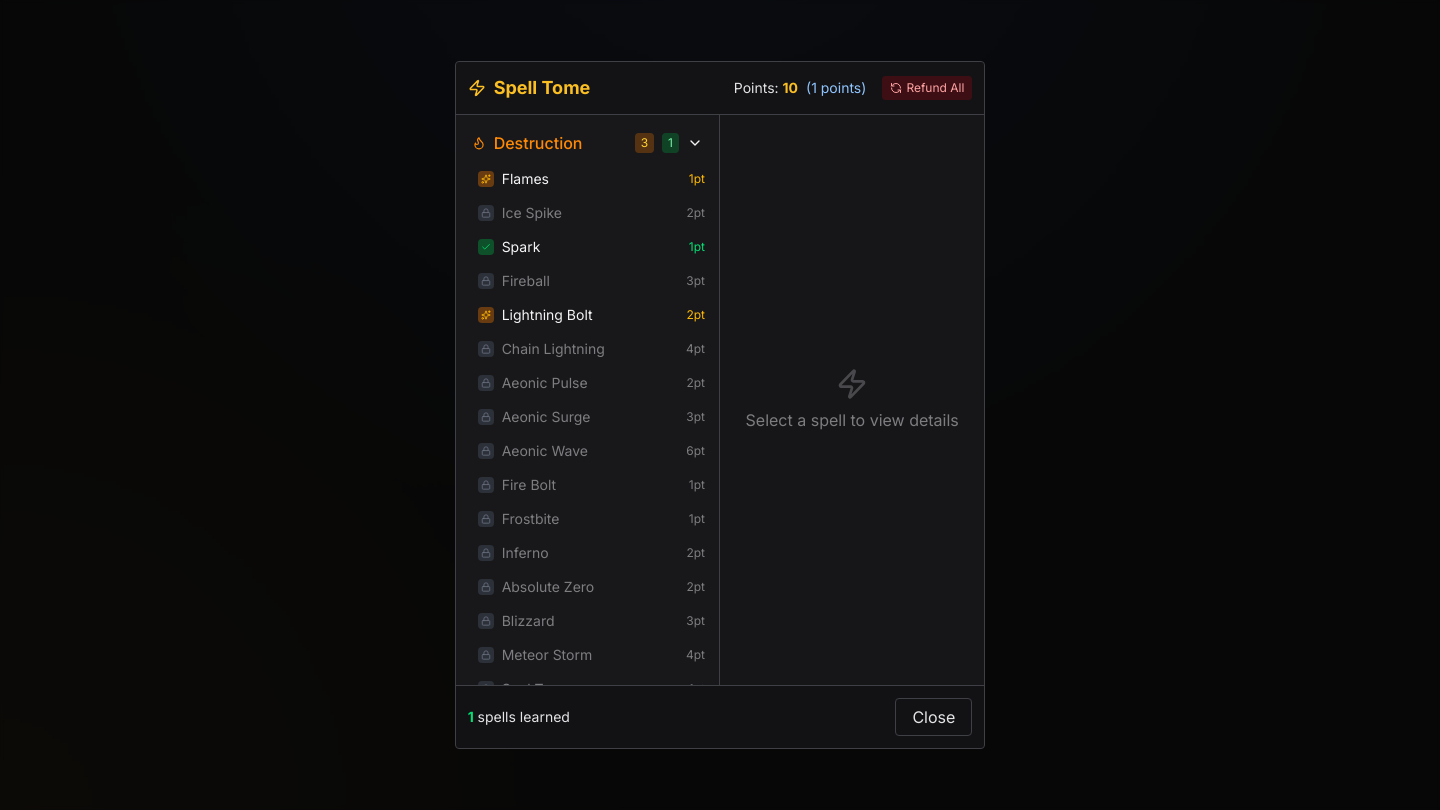
Test: SpellsModal empowered variant UI › shows empowered variant locked for low-level characters when base learned
The width and height of the screenshot is (1440, 810).
Note: Open the learned spell details (select Spark)
Click the text "Spark".
click(521, 247)  # box top-left (502, 237), bottom-right (540, 257)
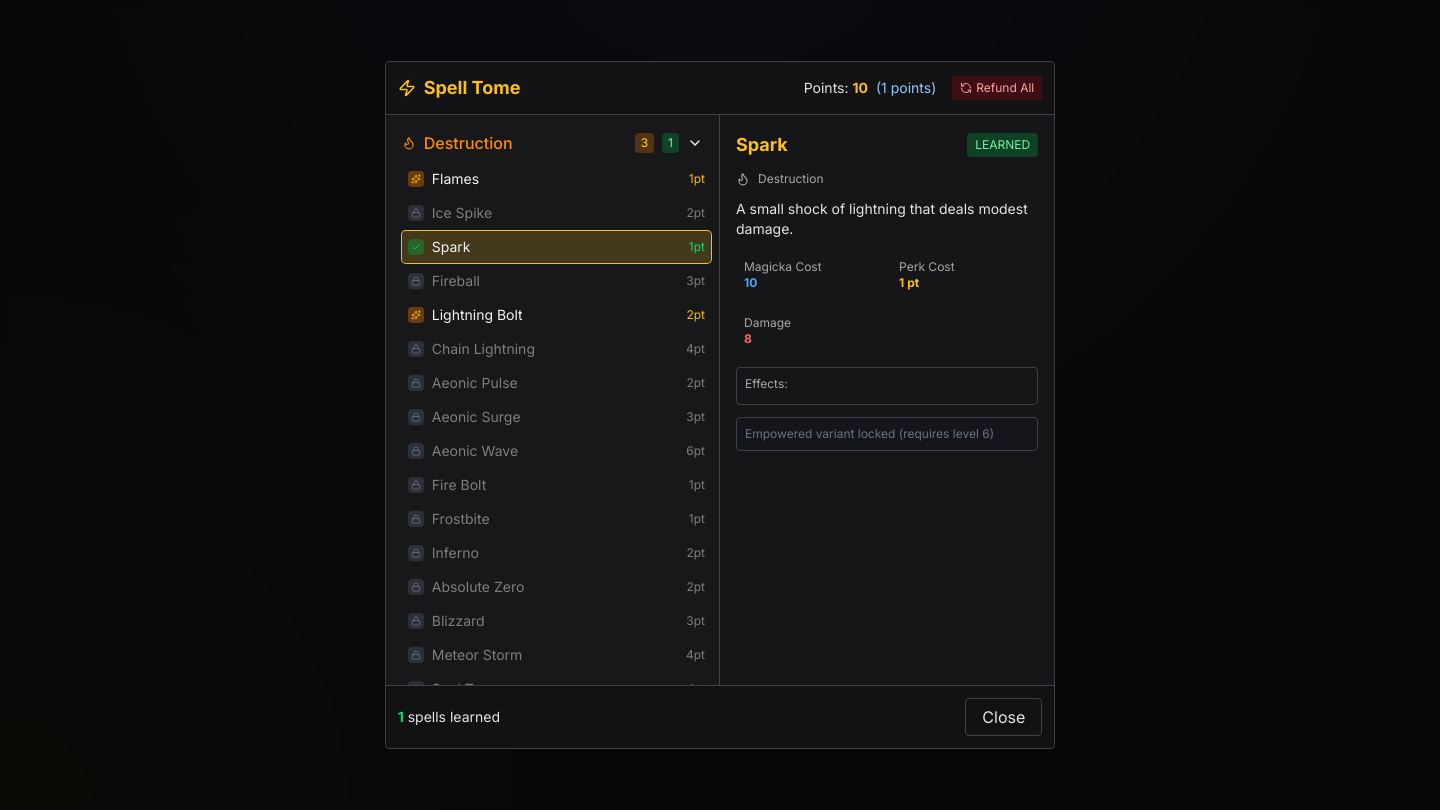
Expected: the text "Empowered variant locked (requires level 6)" is shown, top-left (745, 426), bottom-right (1029, 442)
